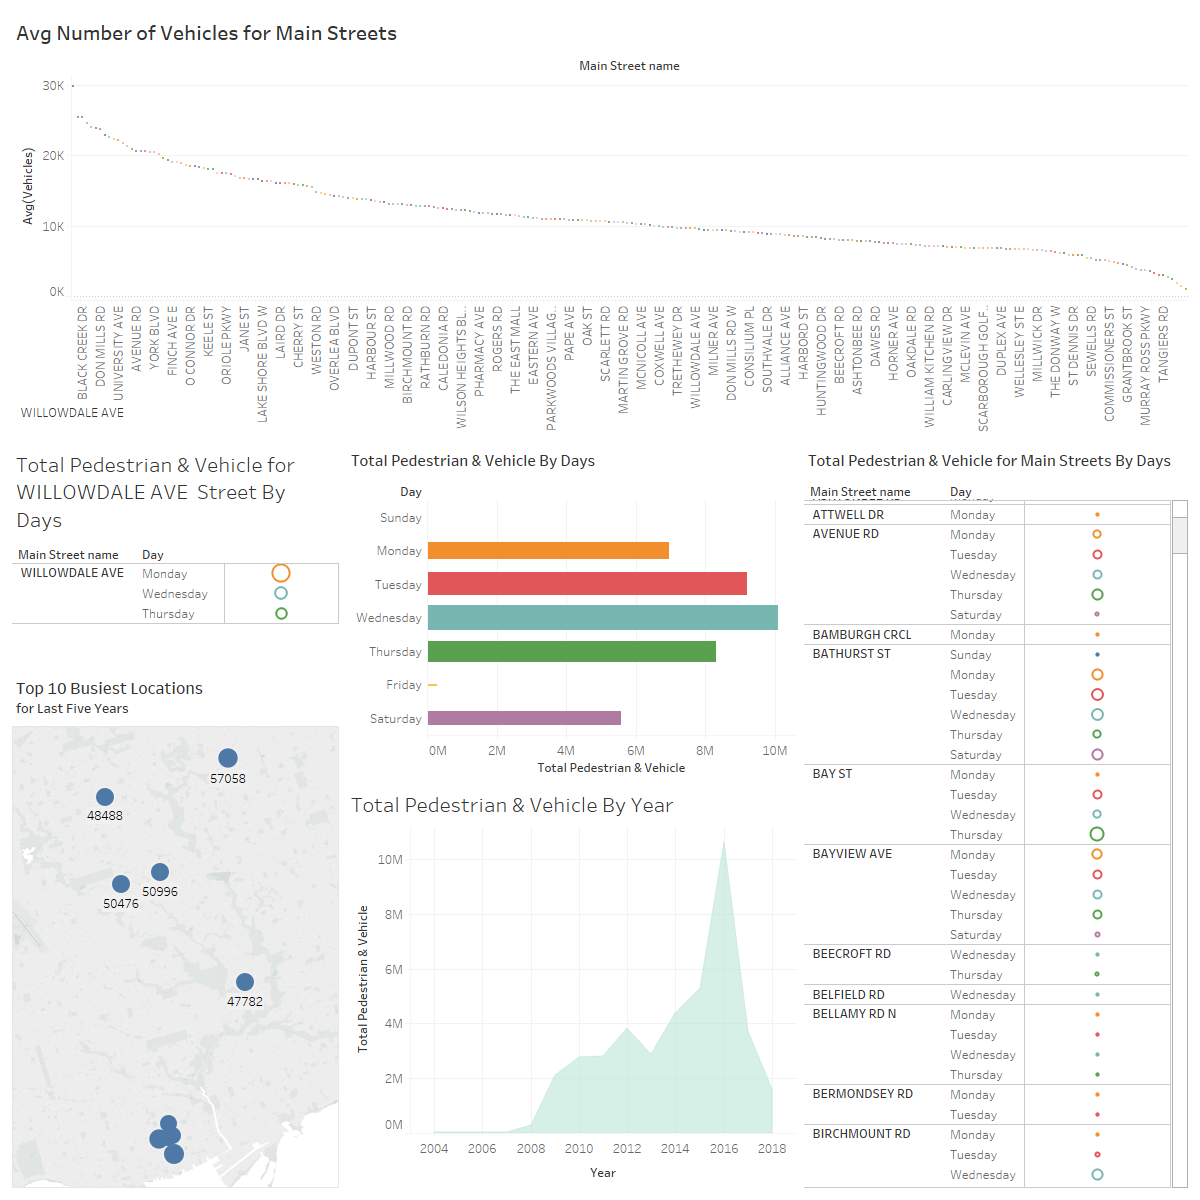

Layout of this report page (visuals, bound fields, positions):
{"tool":"tableau","page":{"name":"Dashboard 1","canvas":[1200,1200],"ordinal":0},"visuals":[{"type":"worksheet","title":"Avg Number of Vehicles for Main Streets","mark":"Circle","rows":["F2"],"cols":["F1"],"box":[8,8,1184,431.9]},{"type":"worksheet","title":"Total Pedestrian & Vehicle for Main Street By Days ","mark":"Shape","rows":["F1","F2"],"box":[8,439.9,334.6,227.1]},{"type":"worksheet","title":"Total Pedestrian & Vehicle By Days","mark":"Bar","rows":["F1"],"cols":["F2"],"box":[342.6,439.9,457.1,340.1]},{"type":"blank","box":[799.5,439.9,0,752.1]},{"type":"worksheet","title":"Total Pedestrian & Vehicle for Main Streets By Days","mark":"Shape","rows":["F1","F2"],"box":[799.7,439.9,392.3,752.1]},{"type":"parameter","param":"[Parameters].[Main Street name Parameter]","box":[180,503,160,44]},{"type":"worksheet","title":"Top 10 Busiest Locations","mark":"Automatic","rows":["F1"],"cols":["F2"],"box":[8,667,334.6,525]},{"type":"worksheet","title":"Total Pedestrian & Vehicle By Year","mark":"Area","rows":["F2"],"cols":["F1"],"box":[342.6,780,457.1,412]}]}

Visuals, with their boxes in screenshot pixels (x1, y1, x2, y2), scaled from the page's 1200x1200 canvas onto the 1200x1200 screenshot:
"Avg Number of Vehicles for Main Streets" worksheet (Circle marks): bbox(8, 8, 1192, 440)
"Total Pedestrian & Vehicle for Main Street By Days " worksheet (Shape marks): bbox(8, 440, 343, 667)
"Total Pedestrian & Vehicle By Days" worksheet (Bar marks): bbox(343, 440, 800, 780)
"Total Pedestrian & Vehicle for Main Streets By Days" worksheet (Shape marks): bbox(800, 440, 1192, 1192)
parameter: bbox(180, 503, 340, 547)
"Top 10 Busiest Locations" worksheet: bbox(8, 667, 343, 1192)
"Total Pedestrian & Vehicle By Year" worksheet (Area marks): bbox(343, 780, 800, 1192)
